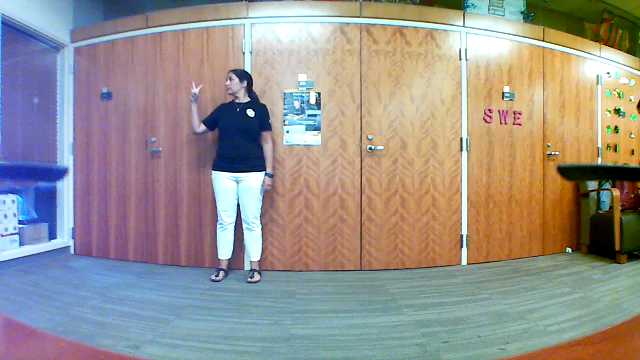peace: (182, 76, 206, 106)
